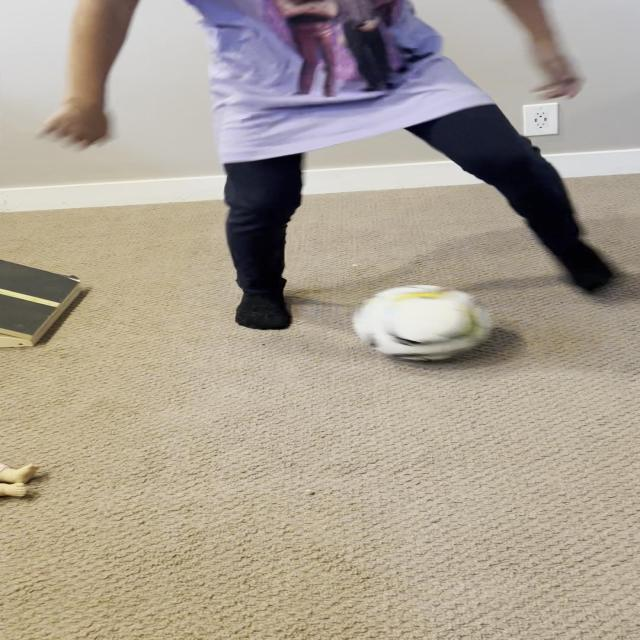Soccer Ball: (355, 284, 491, 361)
